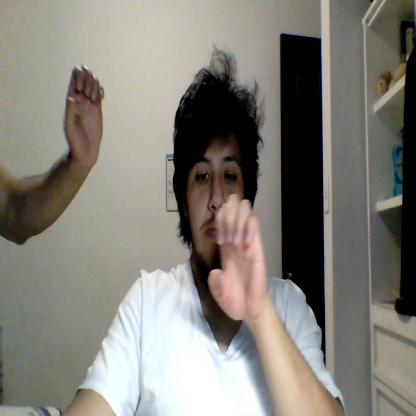E: (208, 195, 268, 320), (64, 65, 104, 166)
